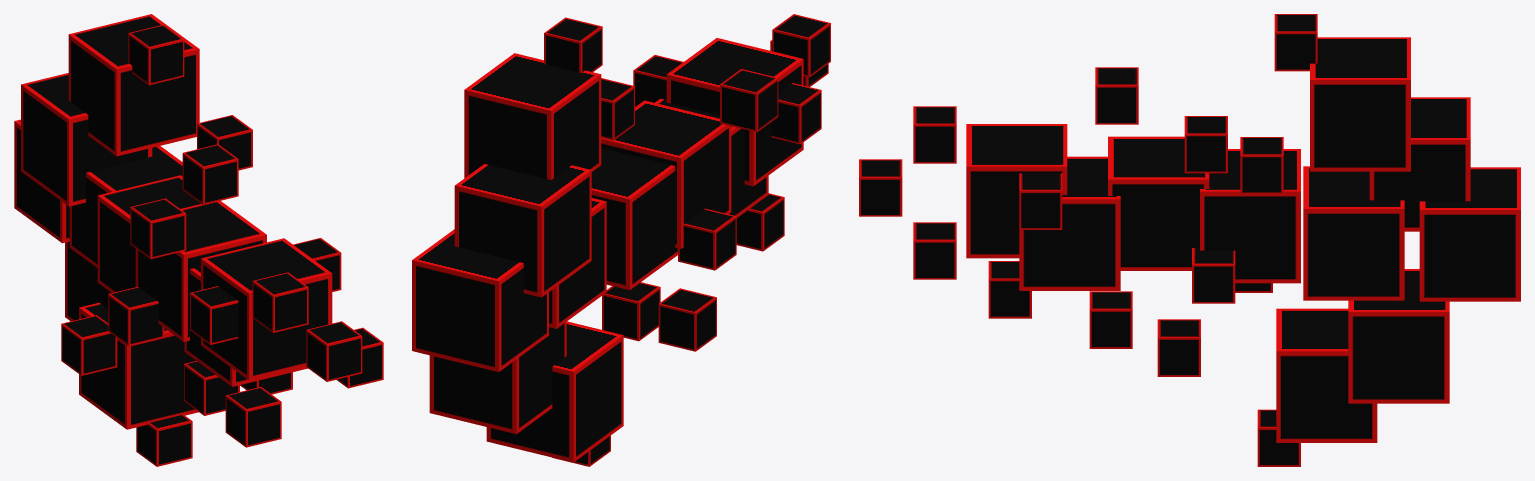
File: dash.fbx
3 views of the same model, side by side, from view 1: azimuth 30°, elevation 25°; view 2: azimuth 150°, elevation 25°; view 3: azimuth 270°, elevation 25° (orthographic). The views are drawn at different scales.
Visible parts, largest first — view 1: pCube28; view 2: pCube28; view 3: pCube28.
Part boxes in pixels (x1=…): pCube28: x1=14, y1=14, x2=383, y2=466; pCube28: x1=412, y1=14, x2=830, y2=466; pCube28: x1=859, y1=14, x2=1520, y2=466.
Size of the model in its own units: 2.12 by 4.74 by 6.54.
